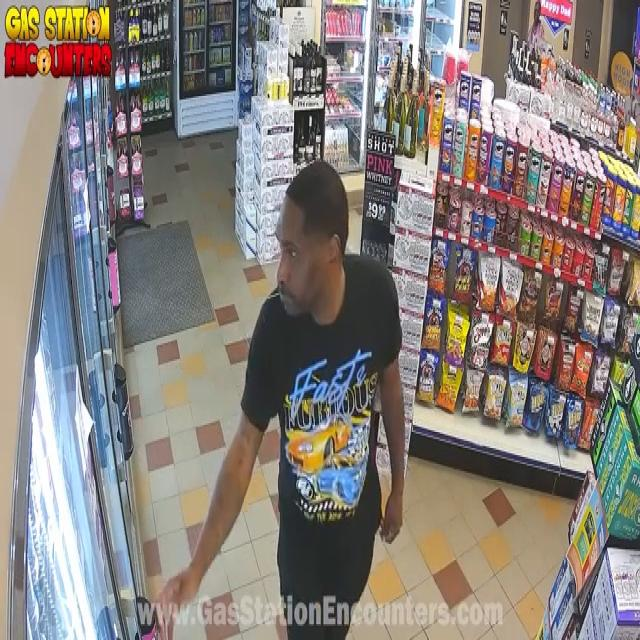hands: (158, 416, 261, 636), (380, 418, 402, 542)
person: (158, 162, 404, 638)
